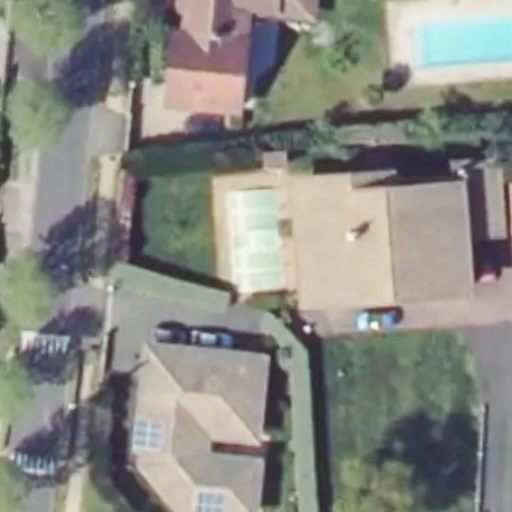pool: (228, 194, 283, 289)
